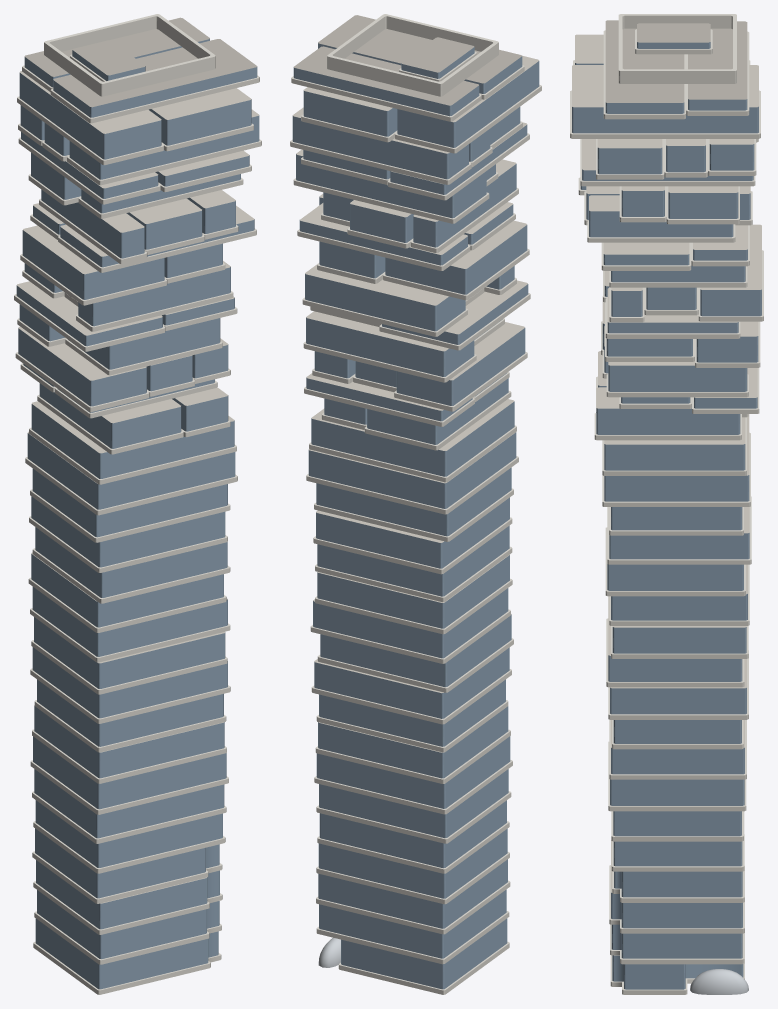
File: 56-leonard.glb
3 views of the same model, side by side, from view 1: azimuth 30°, elevation 25°; view 2: azimuth 150°, elevation 25°; view 3: azimuth 270°, elevation 25° (orthographic).
Parts seen in each view (by area): view 1: 56 Leonard Street; view 2: 56 Leonard Street; view 3: 56 Leonard Street.
Part boxes in pixels (<box>): 56 Leonard Street: <box>14,14,261,994</box>; 56 Leonard Street: <box>290,14,541,994</box>; 56 Leonard Street: <box>570,14,763,994</box>.
Size of the model in its own units: 50.94 by 250 by 47.73.
